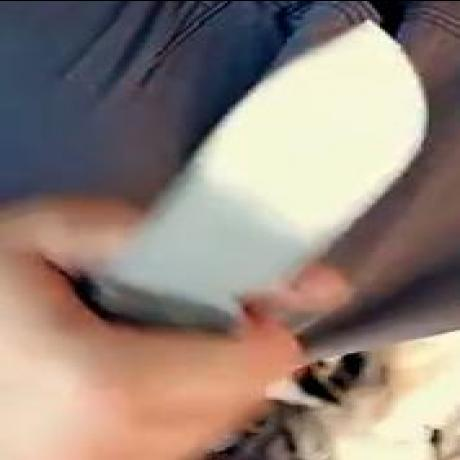1: (0, 193, 354, 460)
weapon: (90, 16, 438, 320)
